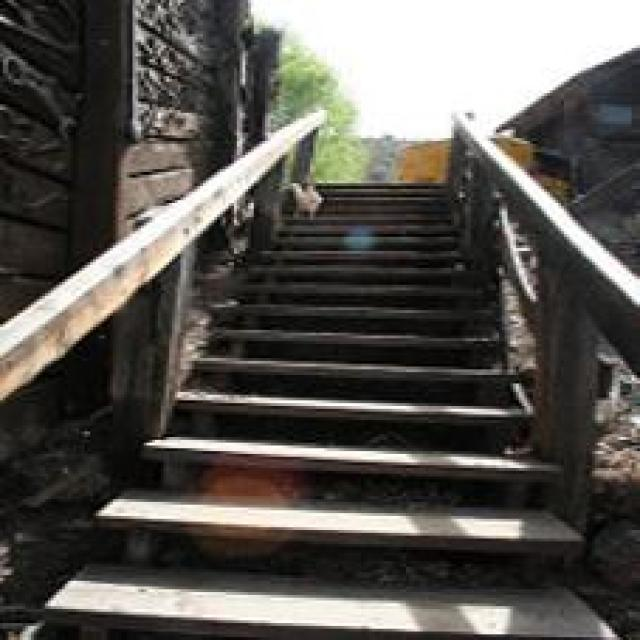stair: (166, 248, 533, 544)
